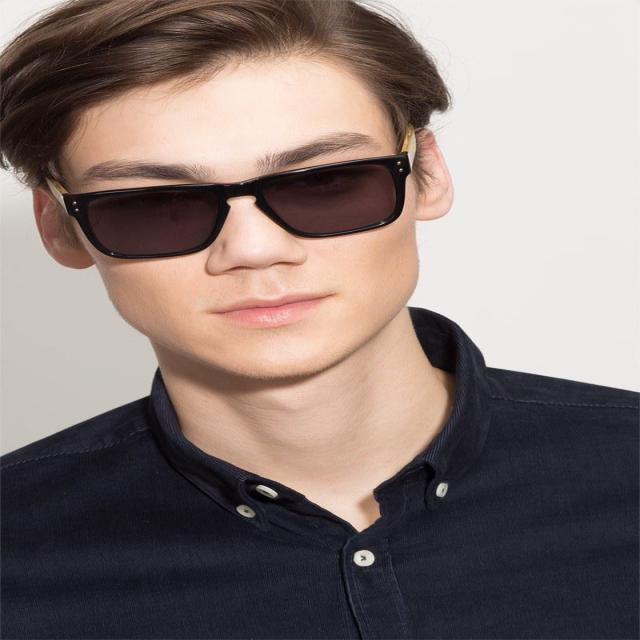2_gafas: (46, 154, 417, 260)
